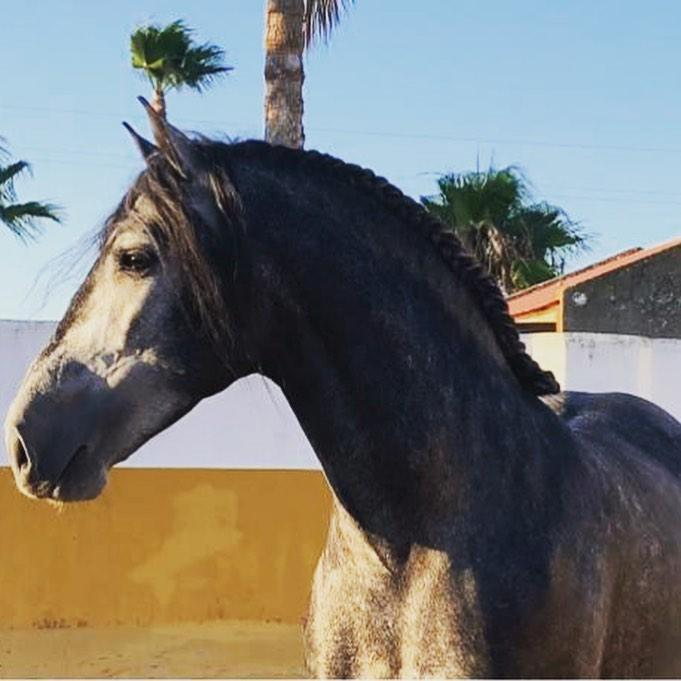horse: (3, 94, 680, 679)
